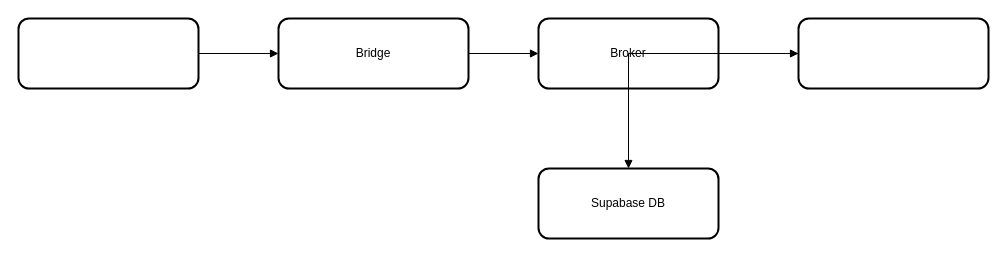
The diagram is 1006 pixels wide and 256 high, and some of its shapes have lost their labels. The shapes that lost their labels are listed below. From the top down, each one's centre as x and y in pixels, then its label:
pixel 108 53: Web/Android
pixel 893 53: ESP8266
